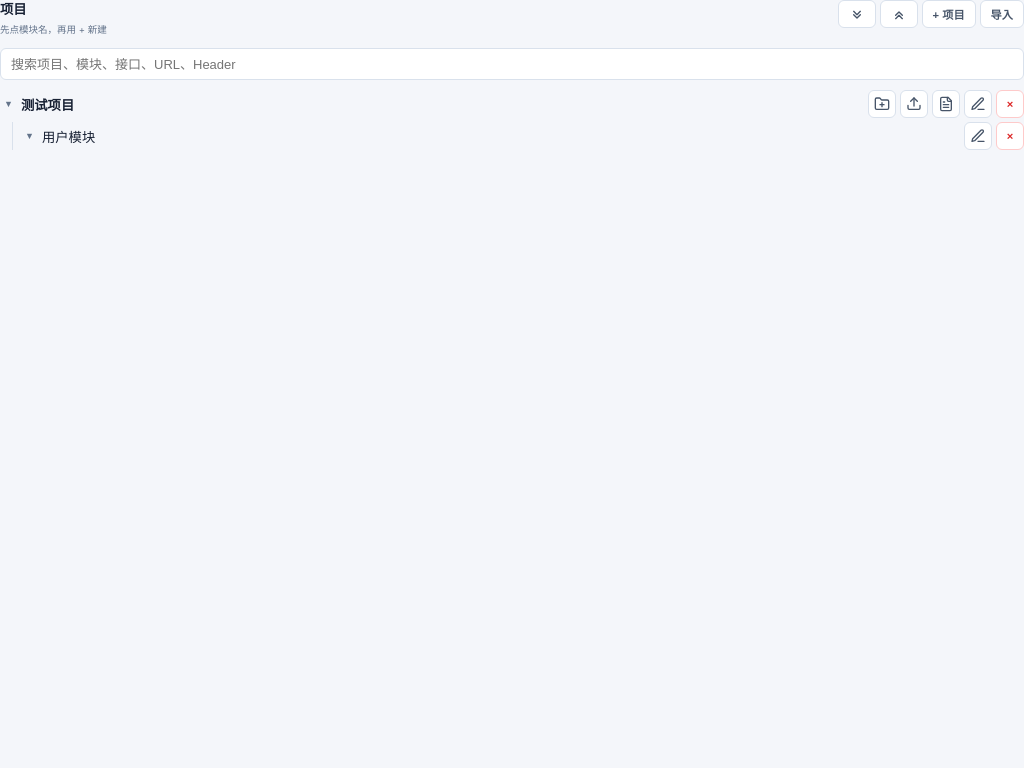
it: ProjectTreePanel › 按 Escape 关闭删除模块确认弹窗且不删除模块
Expected: the button "用户模块" is shown, [38,125,964,148]
Click the button named "删除模块". click: (1010, 136)
box: [996,122,1023,150]
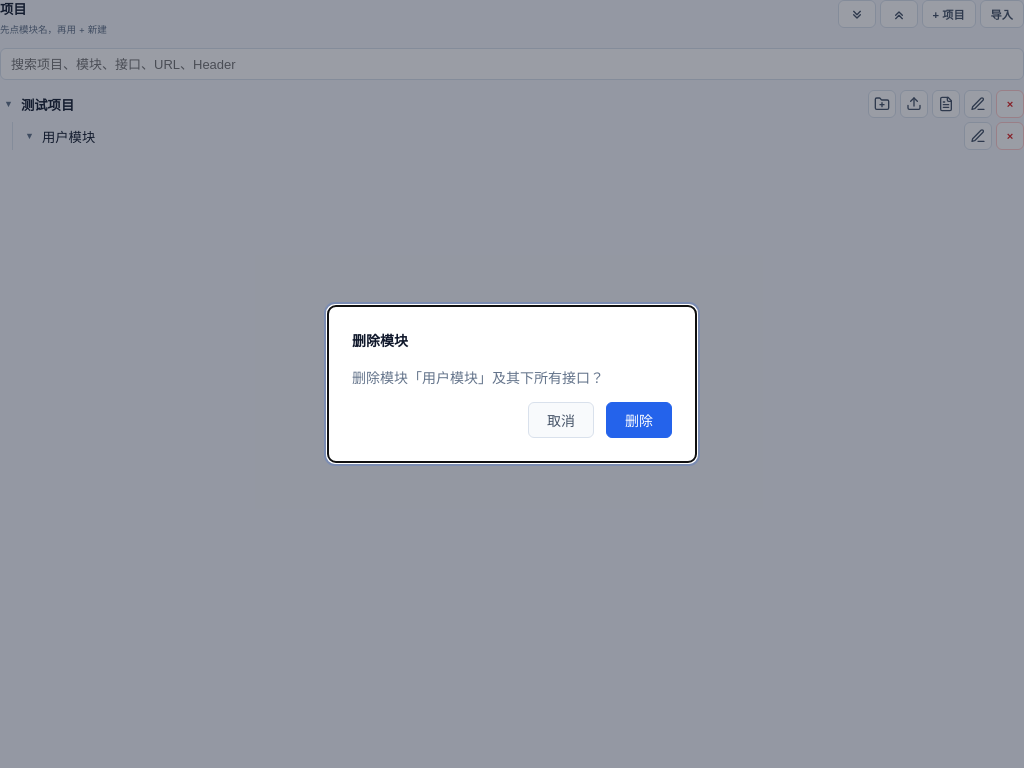
Result: the dialog "删除模块" is shown at [327,305,697,463]
Press Escape
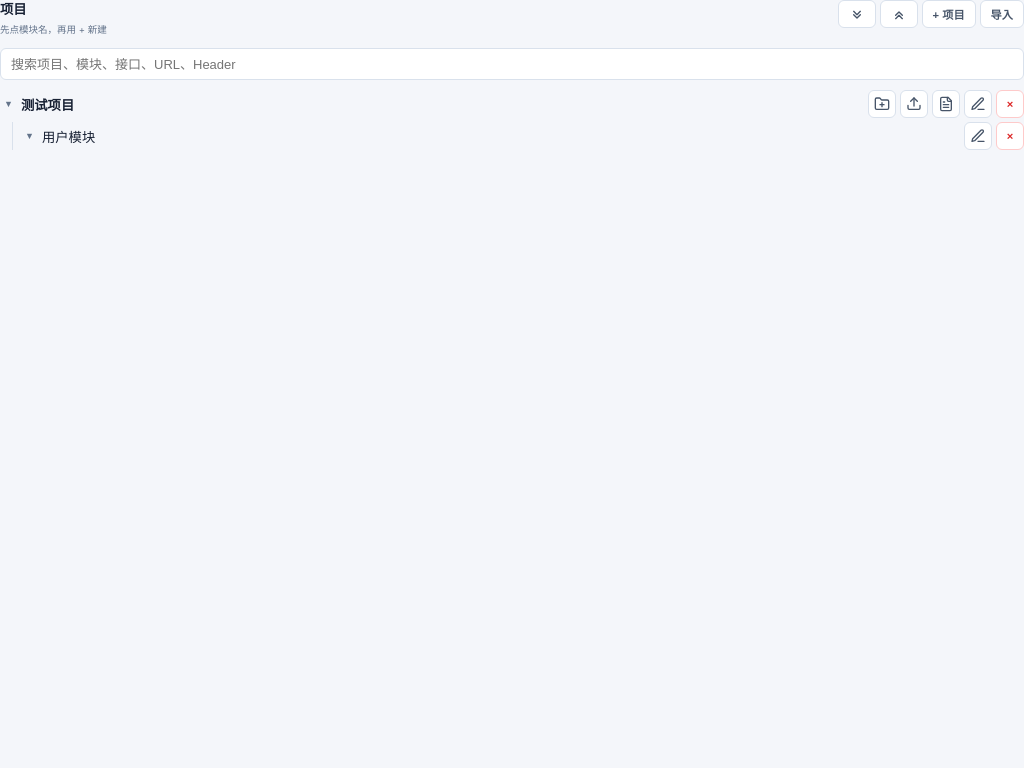
Result: the heading "删除模块" is gone
